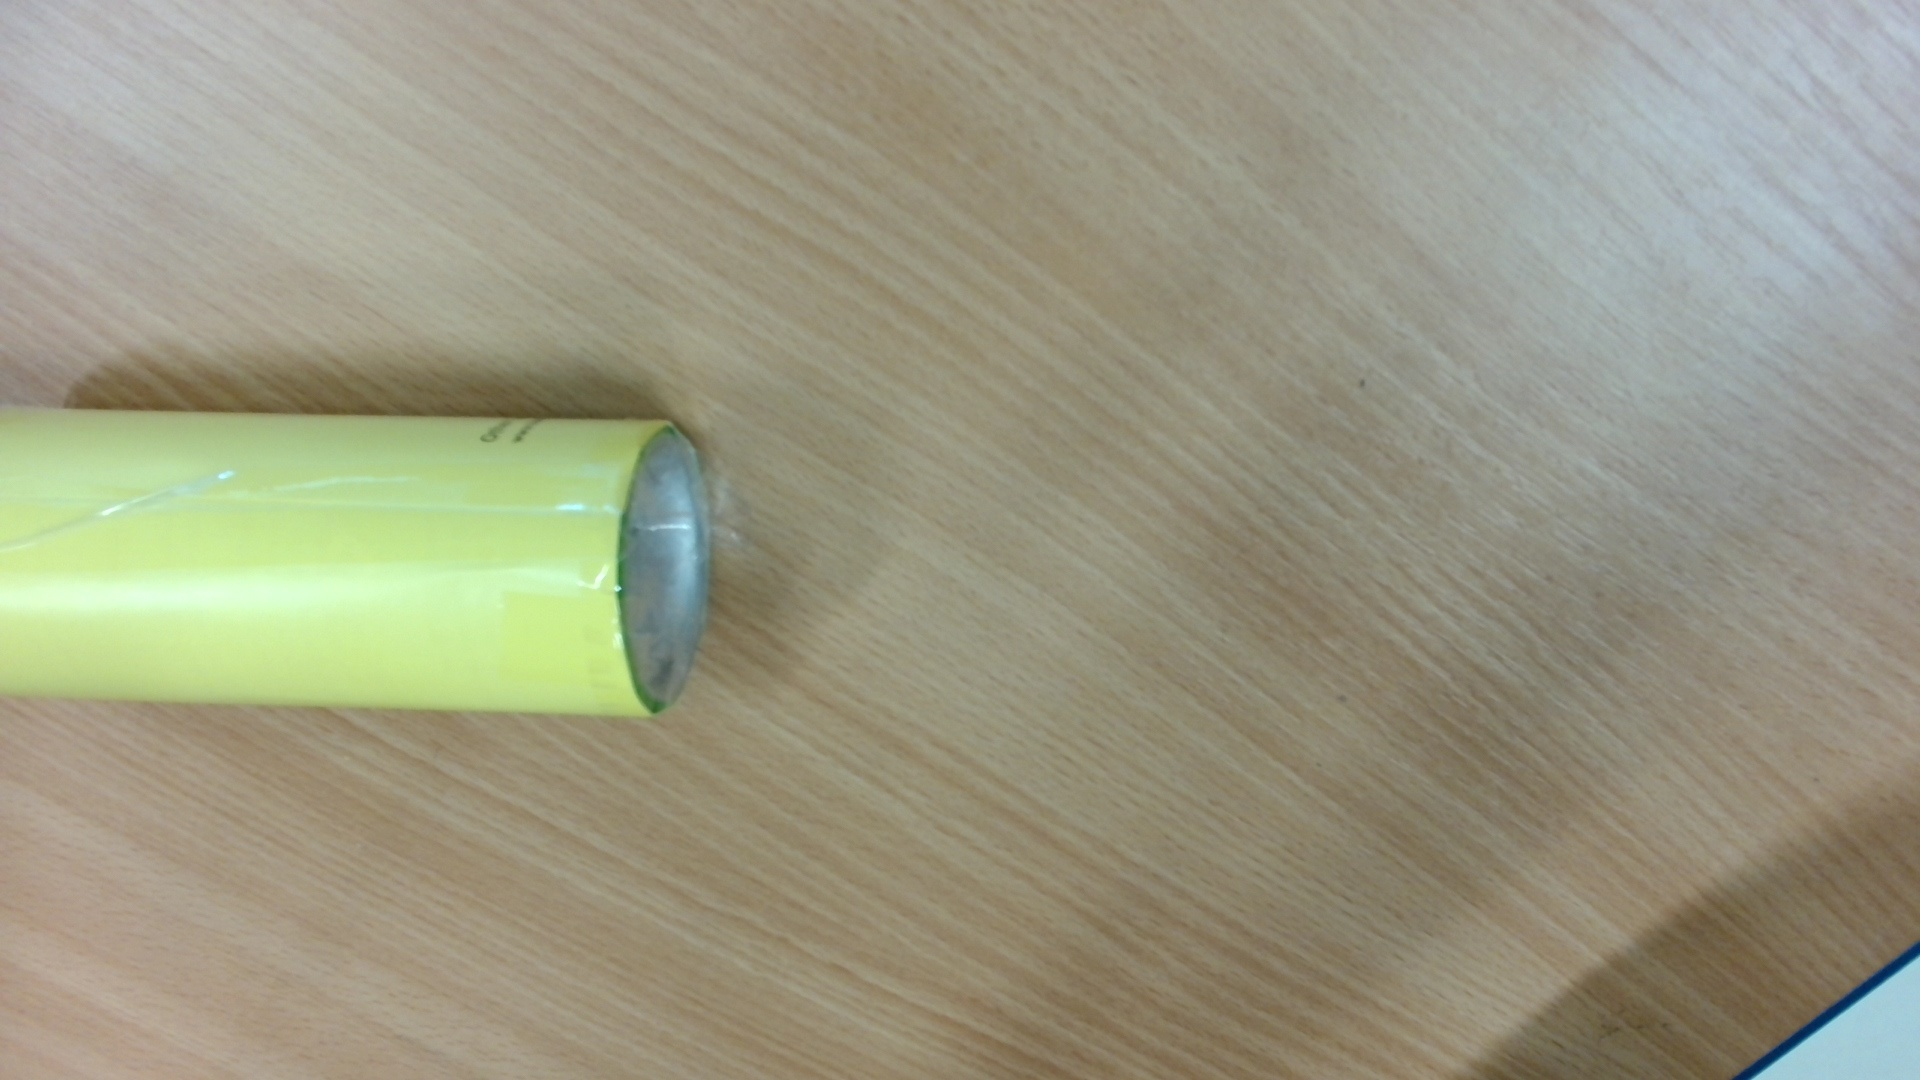Cylinder: (1, 386, 727, 736)
